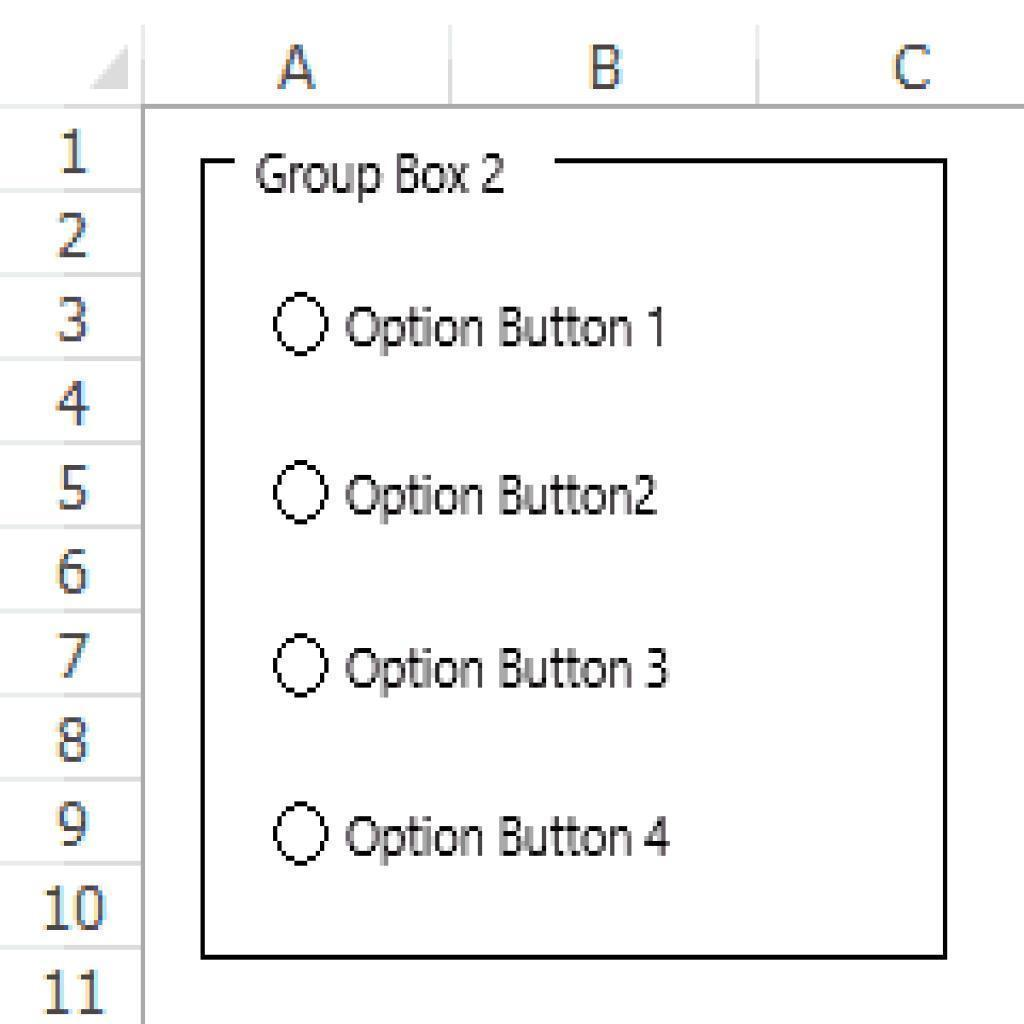label: (340, 806, 678, 869), (343, 639, 677, 701), (343, 299, 671, 360), (341, 467, 666, 527), (253, 149, 511, 204)
radio: (269, 629, 333, 702), (270, 796, 331, 868), (270, 458, 331, 528), (269, 288, 330, 357)
